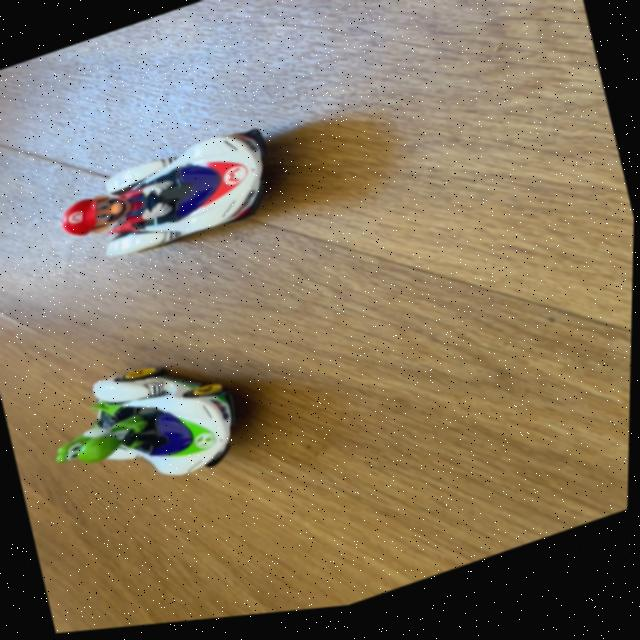mario: (49, 113, 300, 290)
yoshi: (24, 333, 266, 535)
